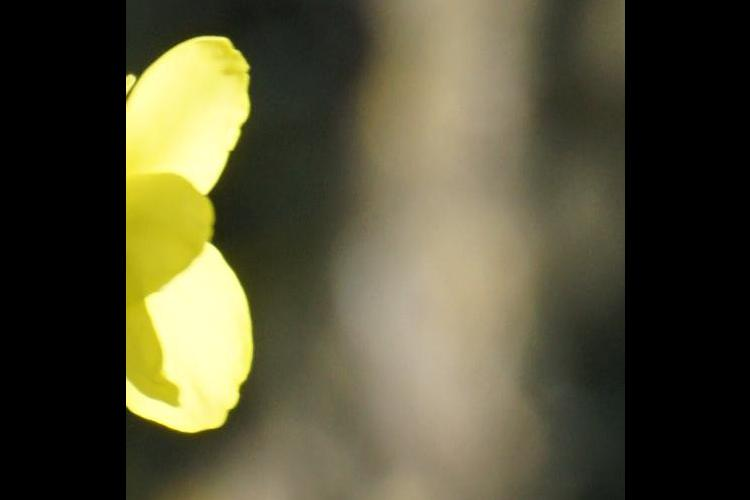yellow: (127, 31, 284, 461)
